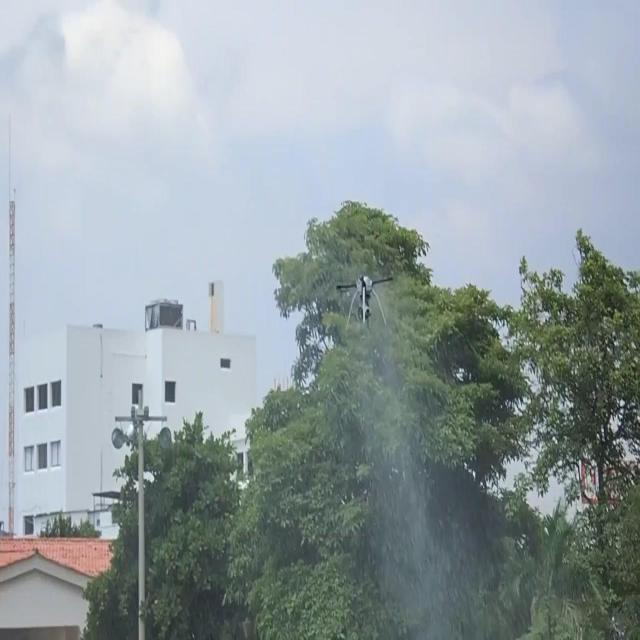UAV: (336, 274, 393, 330)
